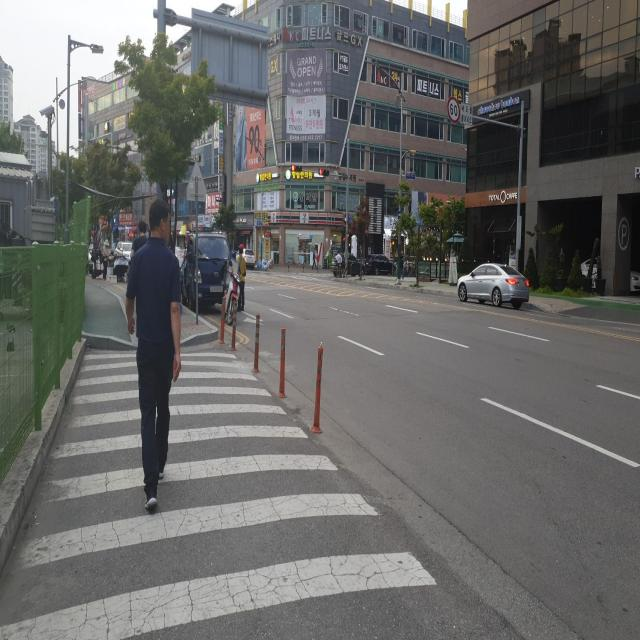횡단보도: (0, 346, 440, 640)
